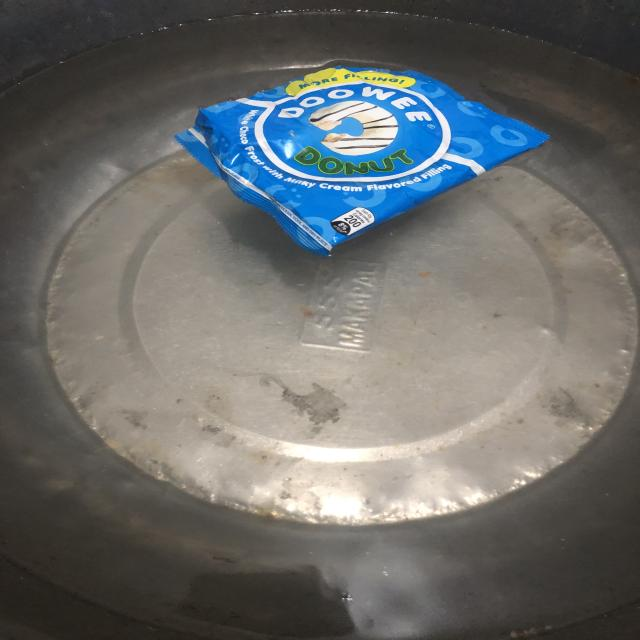Plastic Wrapper: (175, 65, 549, 256)
